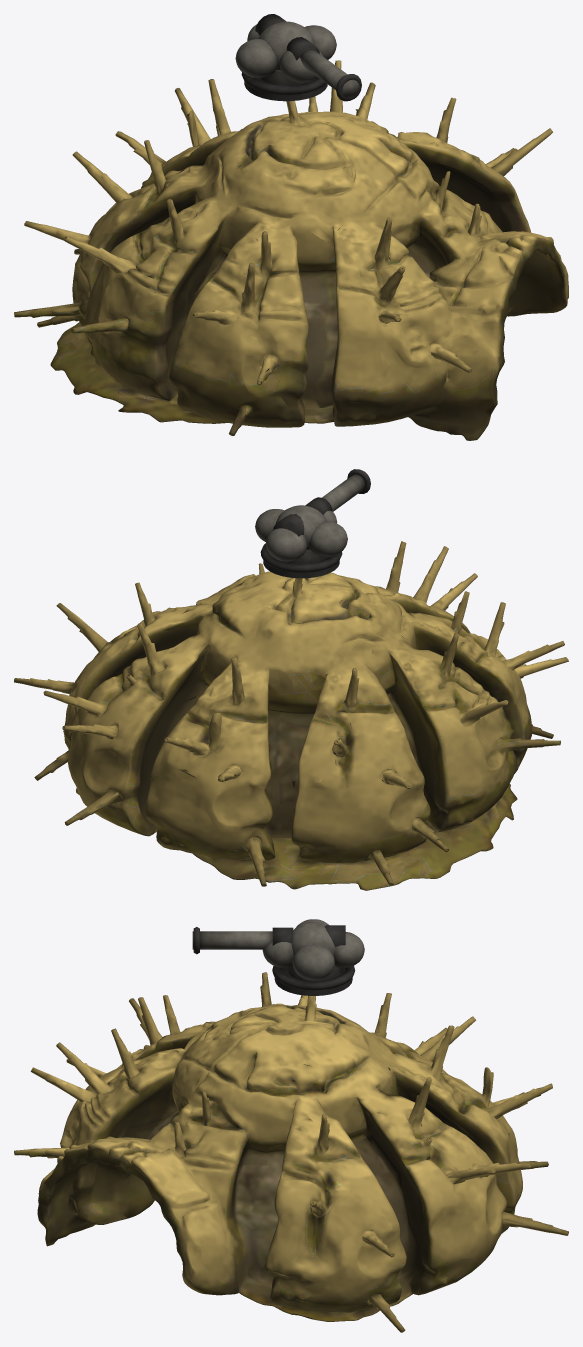
File: colony_beetle.glb
3 renders of one model, top to bottom at view 1: azimuth 30°, elevation 25°; view 2: azimuth 150°, elevation 25°; view 3: azimuth 270°, elevation 25°, orthographic. The views are drawn at different scales.
Visible parts, largest first — view 1: ColonyBody, Turret_1, Turret_1_Barrels; view 2: ColonyBody, Turret_1, Turret_1_Barrels; view 3: ColonyBody, Turret_1, Turret_1_Barrels.
Boxes of the visible parts, left/top/right/bottom form: ColonyBody: left=14, top=60, right=568, bottom=440; Turret_1: left=235, top=21, right=336, bottom=101; Turret_1_Barrels: left=255, top=14, right=361, bottom=101; ColonyBody: left=14, top=541, right=568, bottom=890; Turret_1: left=255, top=505, right=347, bottom=578; Turret_1_Barrels: left=273, top=469, right=370, bottom=536; ColonyBody: left=14, top=972, right=568, bottom=1332; Turret_1: left=262, top=919, right=364, bottom=995; Turret_1_Barrels: left=192, top=925, right=345, bottom=954.
Size of the model in its own units: 5.45 by 3.27 by 5.41.
7 materials, 7 textured.
